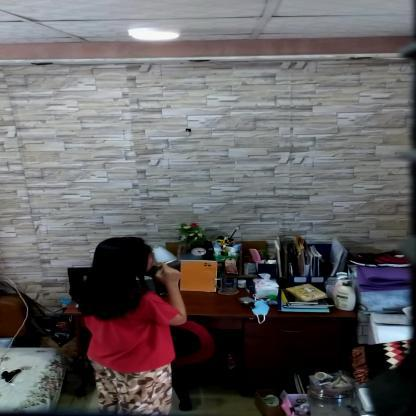cigarette: (165, 258, 177, 264)
person: (72, 235, 189, 415)
